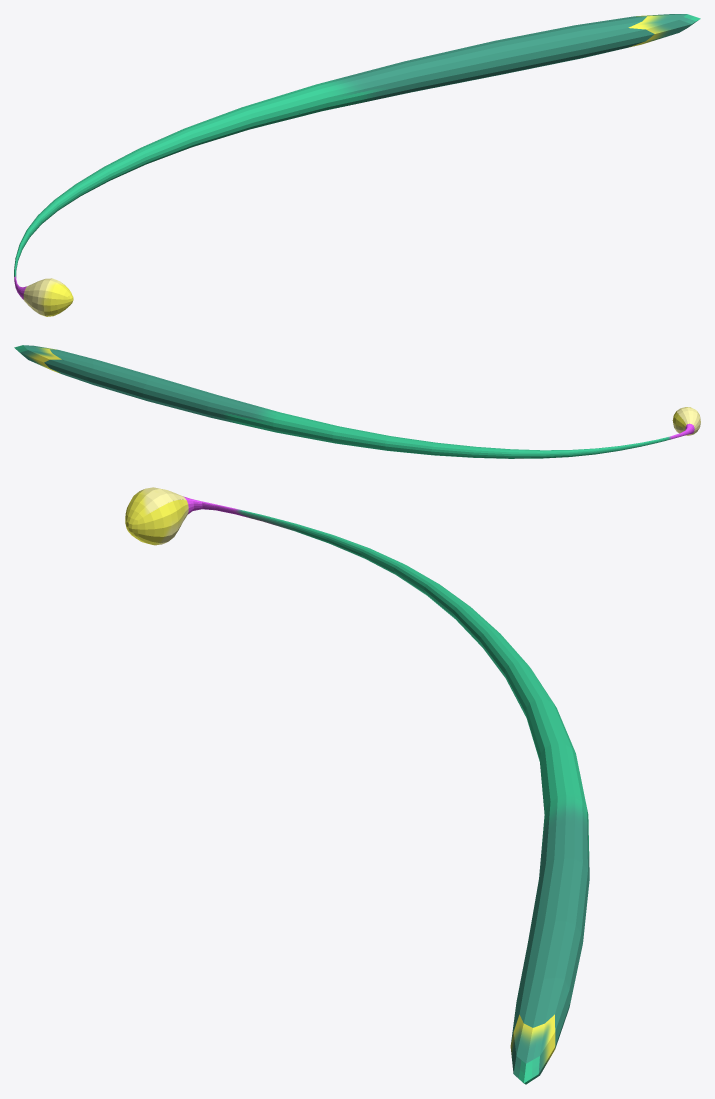
The model's file is Plant3.fbx.
The picture shows the model from 3 angles, top to bottom: view 1: azimuth 30°, elevation 25°; view 2: azimuth 150°, elevation 25°; view 3: azimuth 270°, elevation 25°; orthographic projection. The views are drawn at different scales.
Parts seen in each view (by area): view 1: Cube; view 2: Cube; view 3: Cube.
Part boxes in pixels (x1,y1,x2,y2): Cube: (14,14,700,316); Cube: (14,345,700,458); Cube: (125,487,589,1084).
Bounding box in the file's own units: 423 × 17.91 × 143.
1 material, 1 textured.
